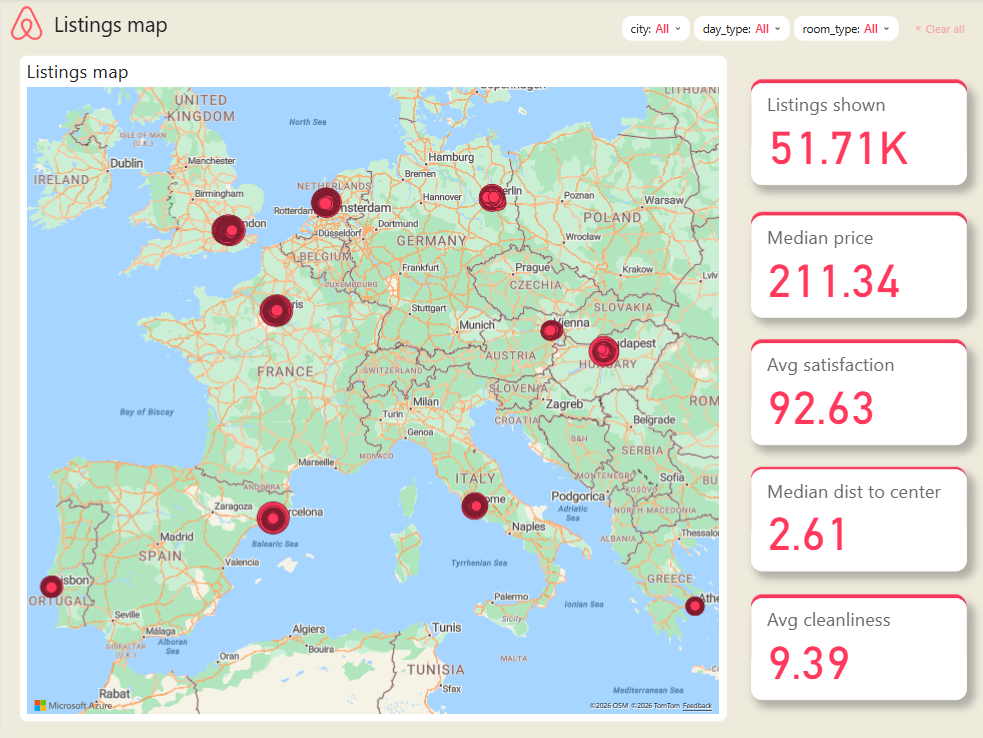

The dashboard page shown, as its layout file describes it:
{"tool":"powerbi","page":{"name":"Map","canvas":[1280,970],"ordinal":3},"visuals":[{"type":"textbox","box":[53.8,5,177.5,56.2],"z":0},{"type":"PBI_CV_7B952816_A48F_49B4_9E13_15E3BB2C0337","title":"Total Listings","fields":{"Values":["CountNonNull(GOLD fact_listing.listing_key)"]},"box":[975,106,281.2,98.8],"z":1000},{"type":"smartFilterBarSDKA9F7BD62E04ADCE9DD7450D052A5DB60","fields":{"fields":["GOLD dim_city.city","GOLD dim_day_type.day_type","GOLD dim_room_type.room_type"]},"box":[457.8,14.1,823.4,228.1],"z":2000},{"type":"azureMap","title":"Listings map","fields":{"Y":["GOLD fact_listing.lat"],"X":["GOLD fact_listing.lng"],"Size":["Median(GOLD fact_listing.real_sum)"],"Series":["GOLD fact_listing.is_price_outlier"]},"box":[25,75,919.2,865.4],"z":3000},{"type":"PBI_CV_7B952816_A48F_49B4_9E13_15E3BB2C0337","title":"Listings shown","fields":{"Values":["CountNonNull(GOLD fact_listing.listing_key)"]},"box":[975,110,280.8,132.7],"z":4000},{"type":"PBI_CV_7B952816_A48F_49B4_9E13_15E3BB2C0337","title":"Total Listings","fields":{"Values":["CountNonNull(GOLD fact_listing.listing_key)"]},"box":[975,278,280.6,98.4],"z":6000},{"type":"PBI_CV_7B952816_A48F_49B4_9E13_15E3BB2C0337","title":"Total Listings","fields":{"Values":["CountNonNull(GOLD fact_listing.listing_key)"]},"box":[975,444,280.4,96.1],"z":7000},{"type":"PBI_CV_7B952816_A48F_49B4_9E13_15E3BB2C0337","title":"Total Listings","fields":{"Values":["CountNonNull(GOLD fact_listing.listing_key)"]},"box":[975,776,280.4,96.1],"z":8000},{"type":"PBI_CV_7B952816_A48F_49B4_9E13_15E3BB2C0337","title":"Avg cleanliness","fields":{"Values":["Avg(GOLD fact_listing.cleanliness_rating)"]},"box":[975,780.8,280.8,132.7],"z":9000},{"type":"PBI_CV_7B952816_A48F_49B4_9E13_15E3BB2C0337","title":"Total Listings","fields":{"Values":["CountNonNull(GOLD fact_listing.listing_key)"]},"box":[975,609,280.4,96.1],"z":10000},{"type":"PBI_CV_7B952816_A48F_49B4_9E13_15E3BB2C0337","title":"Median dist to center","fields":{"Values":["Median(GOLD fact_listing.dist)"]},"box":[975,613.5,280.8,132.7],"z":11000},{"type":"PBI_CV_7B952816_A48F_49B4_9E13_15E3BB2C0337","title":"Median price","fields":{"Values":["Median(GOLD fact_listing.real_sum)"]},"box":[975,282.7,280.8,132.7],"z":12000},{"type":"PBI_CV_7B952816_A48F_49B4_9E13_15E3BB2C0337","title":"Avg satisfaction","fields":{"Values":["Avg(GOLD fact_listing.guest_satisfaction_overall)"]},"box":[975,448.1,280.8,132.7],"z":13000},{"type":"image","box":[0,8,66,49],"z":14000}]}

Visuals, with their boxes on the page's 1280x970 design canvas (x1, y1, x2, y2). These are canvas units, not pixel positions in the 983x738 screenshot, which may show the page scaled, cropped or inside an application window:
textbox: bbox(54, 5, 231, 61)
"Total Listings" PBI_CV_7B952816_A48F_49B4_9E13_15E3BB2C0337: bbox(975, 106, 1256, 205)
smartFilterBarSDKA9F7BD62E04ADCE9DD7450D052A5DB60 - GOLD dim_city.city x GOLD dim_day_type.day_type: bbox(458, 14, 1281, 242)
"Listings map" azureMap: bbox(25, 75, 944, 940)
"Listings shown" PBI_CV_7B952816_A48F_49B4_9E13_15E3BB2C0337: bbox(975, 110, 1256, 243)
"Total Listings" PBI_CV_7B952816_A48F_49B4_9E13_15E3BB2C0337: bbox(975, 278, 1256, 376)
"Total Listings" PBI_CV_7B952816_A48F_49B4_9E13_15E3BB2C0337: bbox(975, 444, 1255, 540)
"Total Listings" PBI_CV_7B952816_A48F_49B4_9E13_15E3BB2C0337: bbox(975, 776, 1255, 872)
"Avg cleanliness" PBI_CV_7B952816_A48F_49B4_9E13_15E3BB2C0337: bbox(975, 781, 1256, 914)
"Total Listings" PBI_CV_7B952816_A48F_49B4_9E13_15E3BB2C0337: bbox(975, 609, 1255, 705)
"Median dist to center" PBI_CV_7B952816_A48F_49B4_9E13_15E3BB2C0337: bbox(975, 614, 1256, 746)
"Median price" PBI_CV_7B952816_A48F_49B4_9E13_15E3BB2C0337: bbox(975, 283, 1256, 415)
"Avg satisfaction" PBI_CV_7B952816_A48F_49B4_9E13_15E3BB2C0337: bbox(975, 448, 1256, 581)
image: bbox(0, 8, 66, 57)
